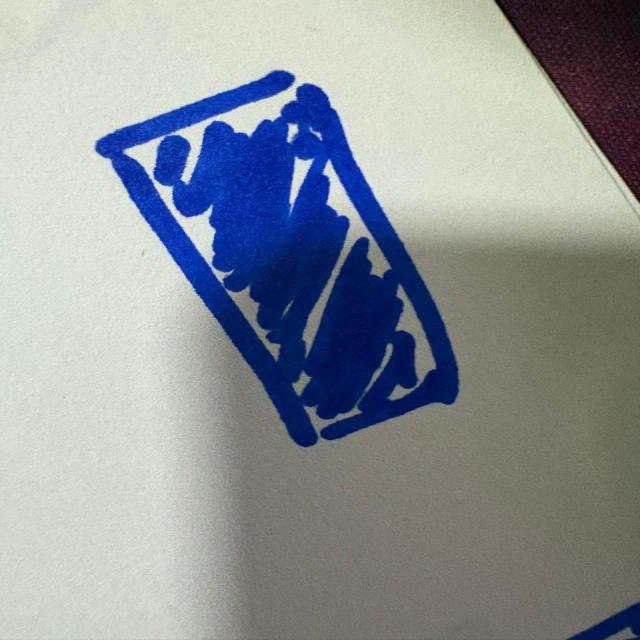Rectangle: (77, 66, 470, 459)
